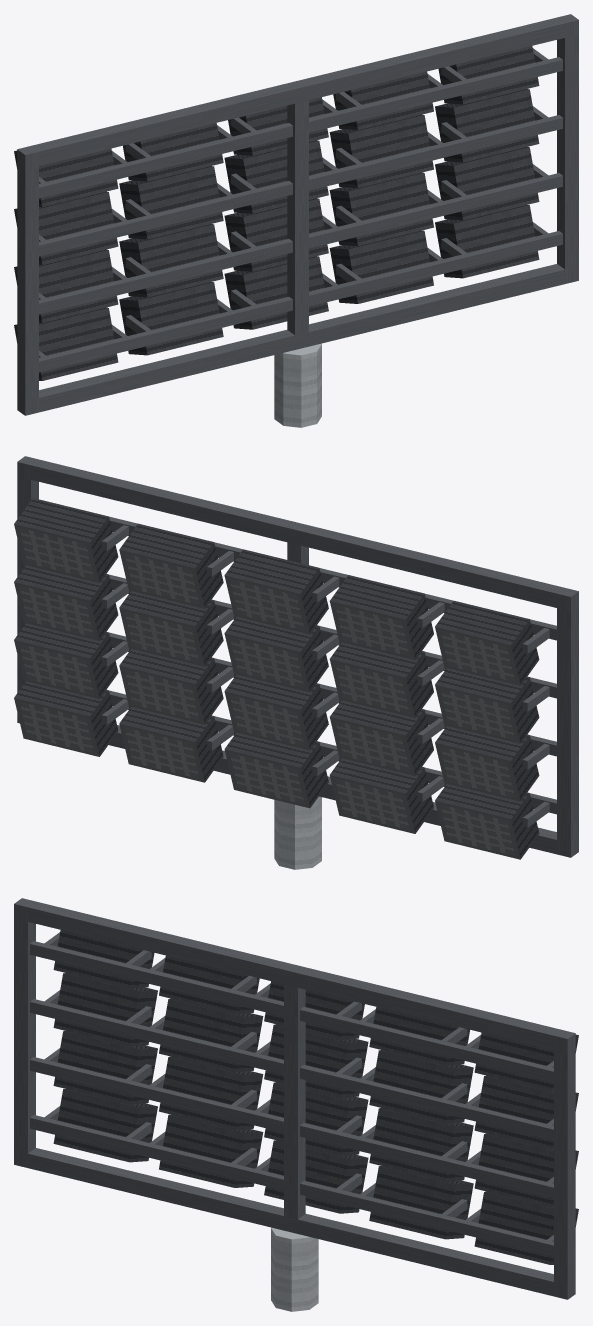
Rendered from head_large_off.obj.
3 renders of one model, top to bottom at view 1: azimuth 30°, elevation 25°; view 2: azimuth 150°, elevation 25°; view 3: azimuth 330°, elevation 25°, orthographic.
Parts seen in each view (by area): view 1: head_large_off; view 2: head_large_off; view 3: head_large_off.
Boxes of the visible parts, <box> form: head_large_off: <box>14,14,578,427</box>; head_large_off: <box>14,456,578,869</box>; head_large_off: <box>14,898,578,1311</box>.
Bounding box in the file's own units: 5 × 2.88 × 0.7292.
